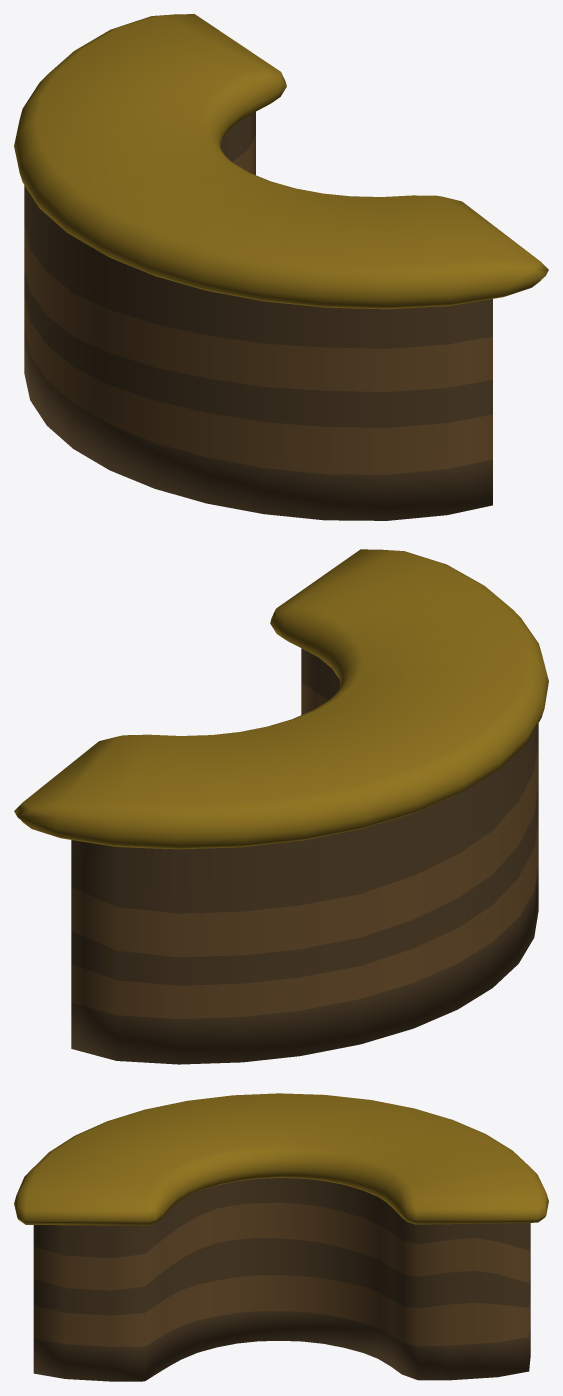
File: Plateforme_semi_Cercle_m.fbx
3 renders of one model, top to bottom at view 1: azimuth 30°, elevation 25°; view 2: azimuth 150°, elevation 25°; view 3: azimuth 270°, elevation 25°, orthographic. The views are drawn at different scales.
Visible parts, largest first — view 1: Cube.018; view 2: Cube.018; view 3: Cube.018.
Part boxes in pixels (x1,y1,x2,y2): Cube.018: [14, 14, 548, 520]; Cube.018: [14, 549, 548, 1064]; Cube.018: [14, 1093, 548, 1381].
Bounding box in the file's own units: 885 × 681 × 1719.
